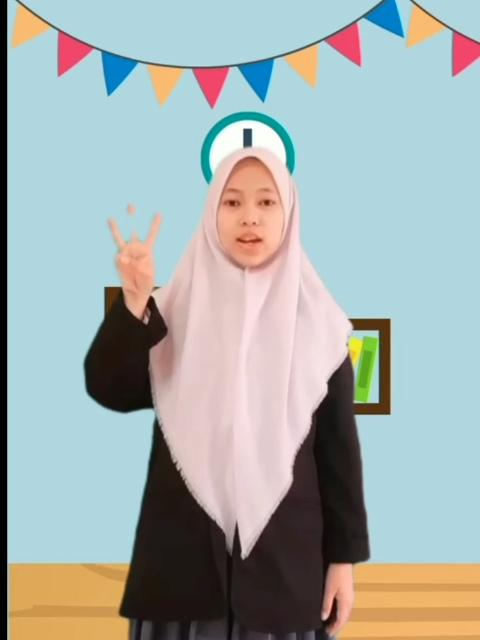W: (102, 198, 170, 300)
